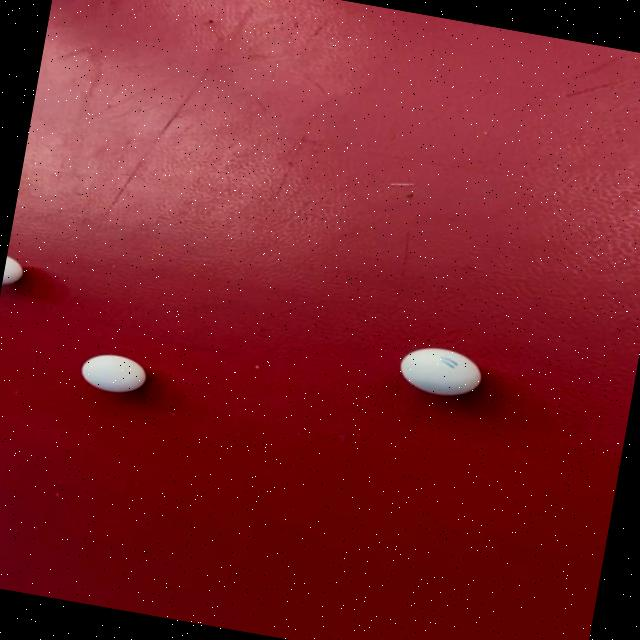ping-pong-ball: (390, 337, 490, 404), (69, 344, 154, 402), (0, 245, 32, 294)
